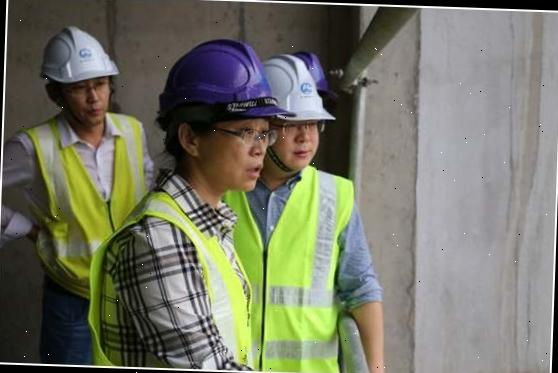helmet: (166, 37, 296, 124), (257, 51, 340, 127), (40, 25, 124, 88)
wear: (97, 185, 254, 372), (15, 111, 148, 286), (228, 183, 347, 373)
